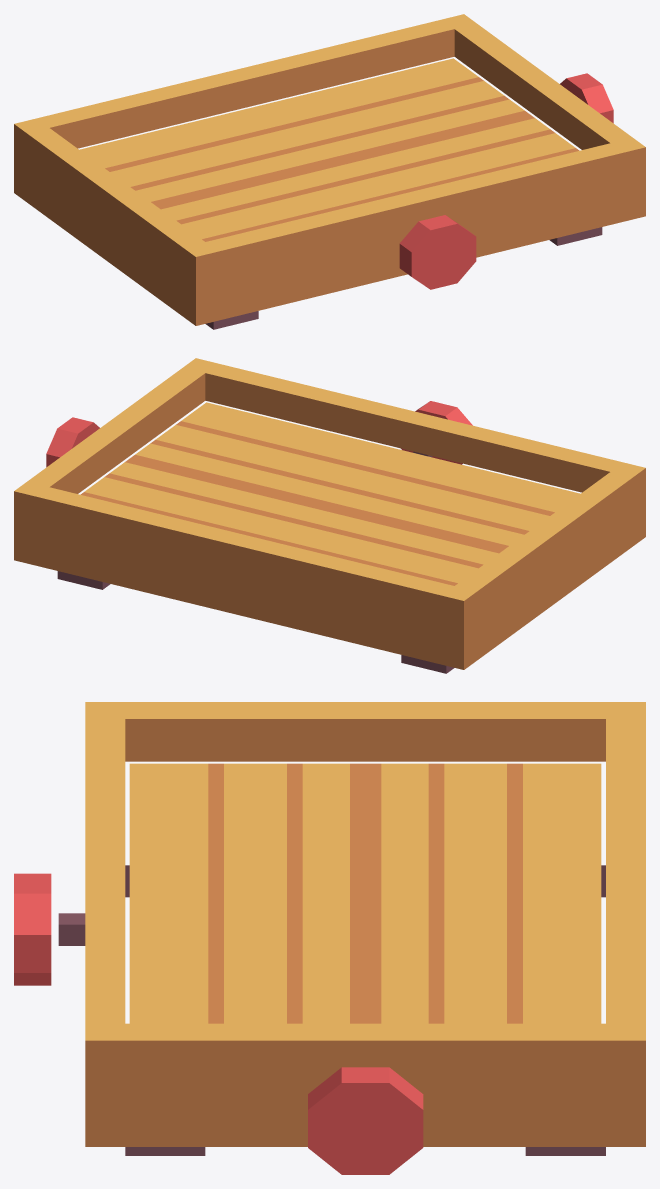
File: labyrinth.glb
The picture shows the model from 3 angles, top to bottom: view 1: azimuth 30°, elevation 25°; view 2: azimuth 150°, elevation 25°; view 3: azimuth 270°, elevation 25°; orthographic projection. The views are drawn at different scales.
Parts seen in each view (by area): view 1: Frame, Floor, KnobF, KnobR; view 2: Frame, Floor, KnobR, KnobF; view 3: Floor, Frame, KnobR, KnobF.
Part boxes in pixels (box(x1,y1,x2,y2)): Frame: box(14, 14, 645, 329); Floor: box(79, 58, 579, 241); KnobF: box(399, 215, 476, 289); KnobR: box(560, 73, 613, 123); Frame: box(14, 358, 645, 673); Floor: box(80, 402, 580, 585); KnobR: box(46, 417, 99, 467); KnobF: box(401, 401, 472, 464); Floor: box(129, 763, 601, 1023); Frame: box(58, 702, 645, 1155); KnobR: box(308, 1067, 423, 1174); KnobF: box(14, 873, 51, 985).
Bounding box in the file's own units: 9.8 × 1.72 × 7.1.
